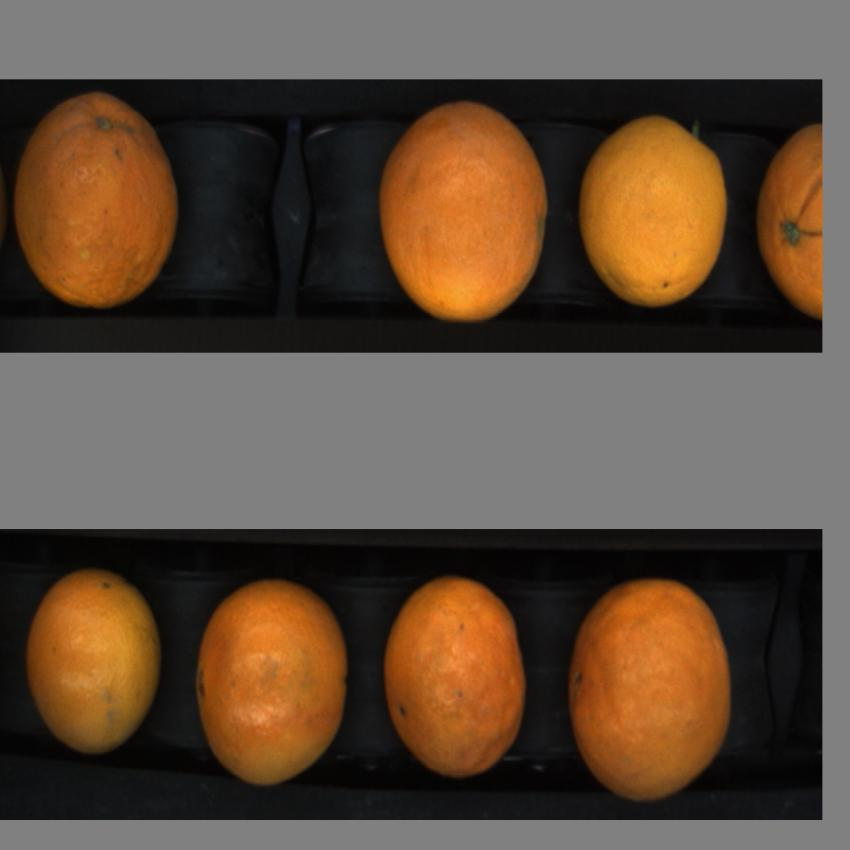Buen estado: (370, 93, 556, 328), (562, 571, 744, 811), (13, 92, 192, 312), (191, 577, 357, 791), (573, 101, 734, 321), (375, 573, 535, 784), (18, 563, 165, 762), (749, 111, 822, 331)
